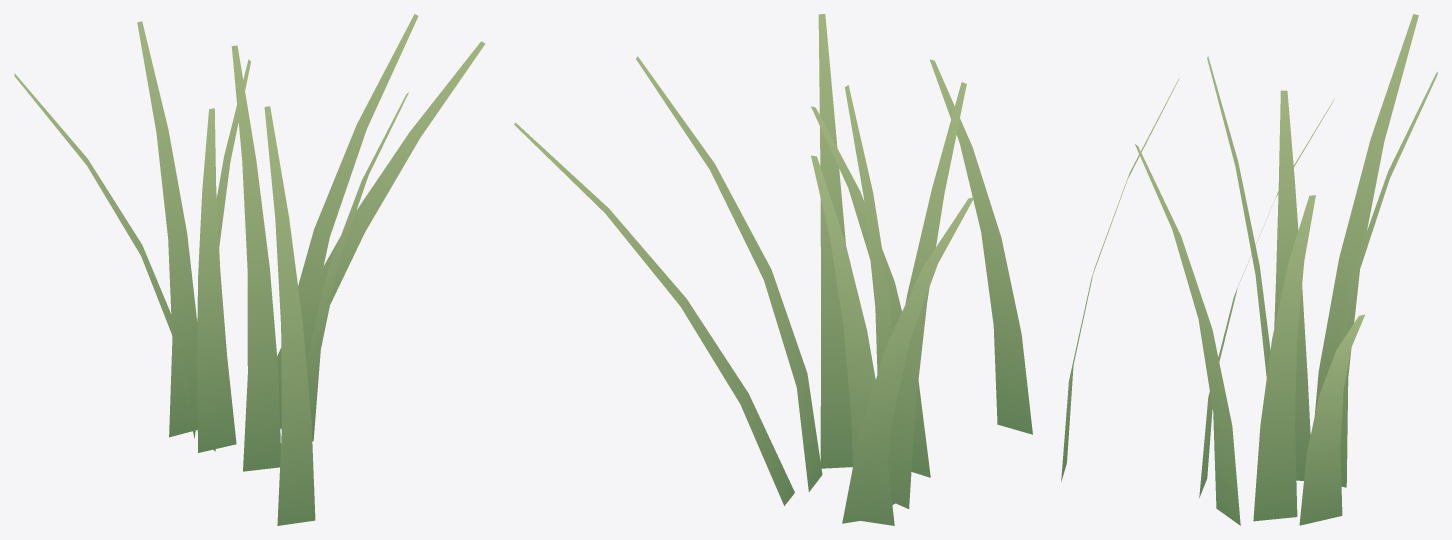
File: grass.glb
3 renders of one model, left to right at view 1: azimuth 30°, elevation 25°; view 2: azimuth 150°, elevation 25°; view 3: azimuth 270°, elevation 25°, orthographic. The views are drawn at different scales.
Visible parts, largest first — view 1: Tuft; view 2: Tuft; view 3: Tuft.
Part boxes in pixels (x1,y1,x2,y2): Tuft: (14, 14, 485, 525); Tuft: (514, 14, 1032, 525); Tuft: (1061, 14, 1437, 525).
Size of the model in its own units: 0.7515 by 0.6084 by 0.5025.
